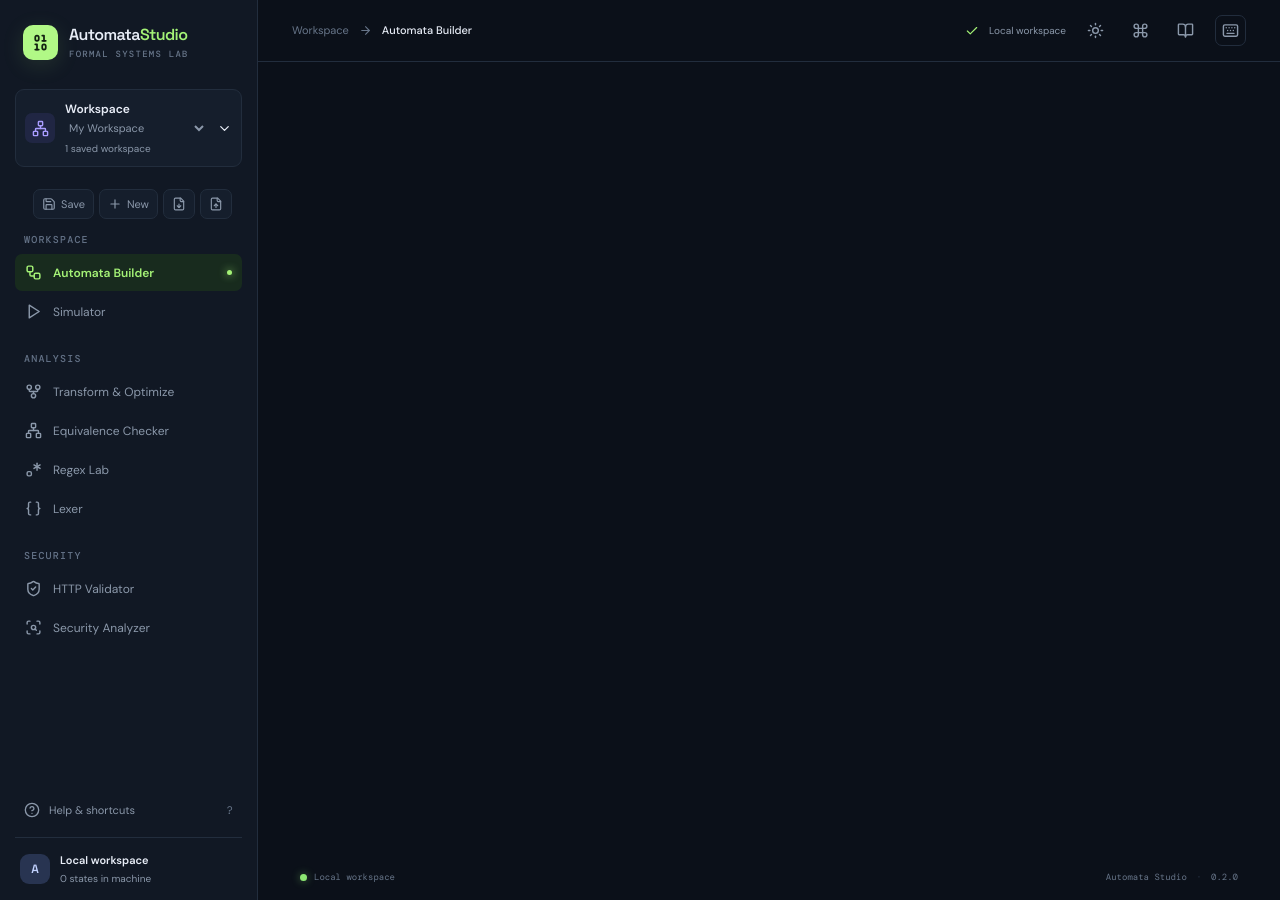
Automata Studio shell › opens a page specific Learn panel
This screenshot has width=1280, height=900.
Step 1. Click the button named "Learn about this page" → (1186, 30), box [1170,15,1201,46]
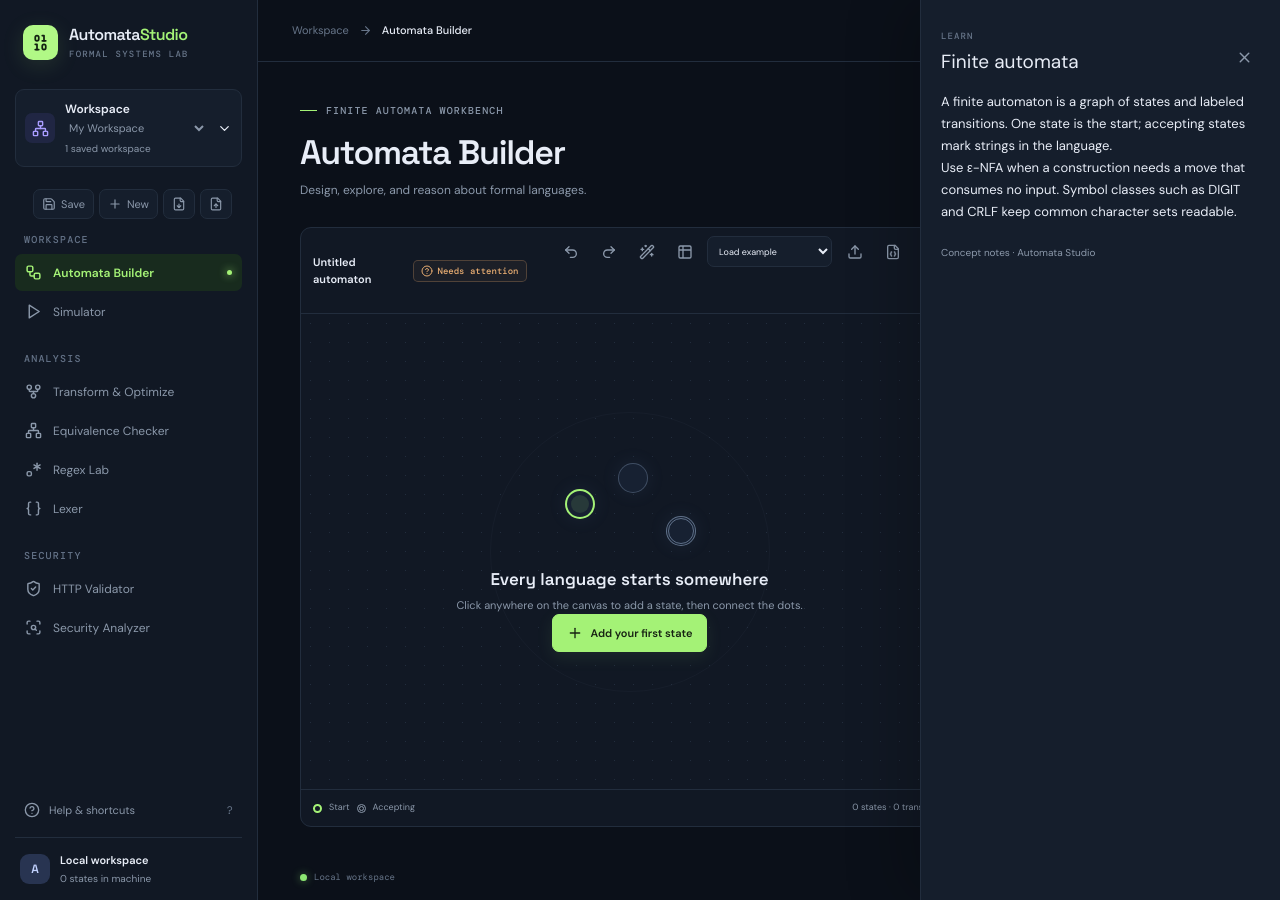
Expected: the element named "Automata Builder theory" is shown, [920,0,1279,899]
Expected: the text "finite automaton is a graph" is shown, [941,92,1245,154]
